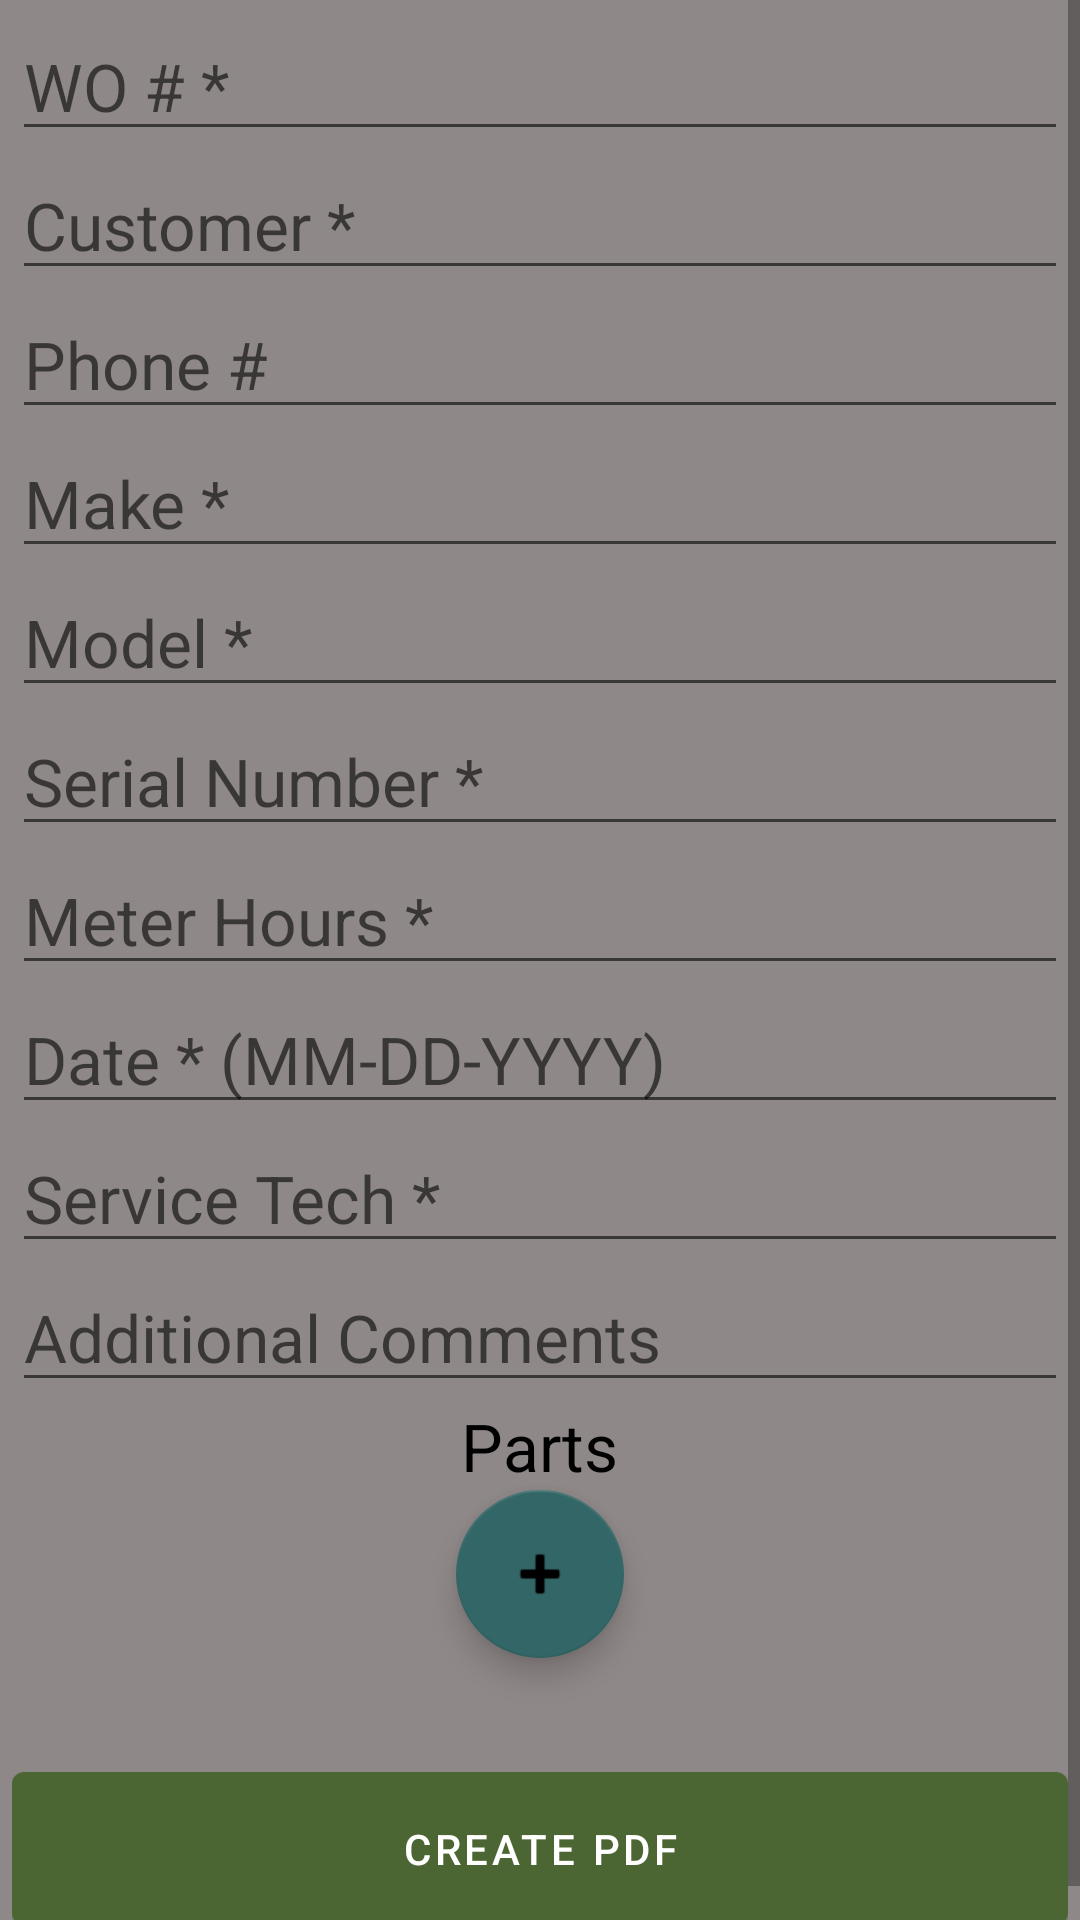

Named icons in this screenshot (1080×1920) and their bounding boxes, (x1, y1, x2, y2):
adds a part to the form: (456, 1490, 624, 1658)
